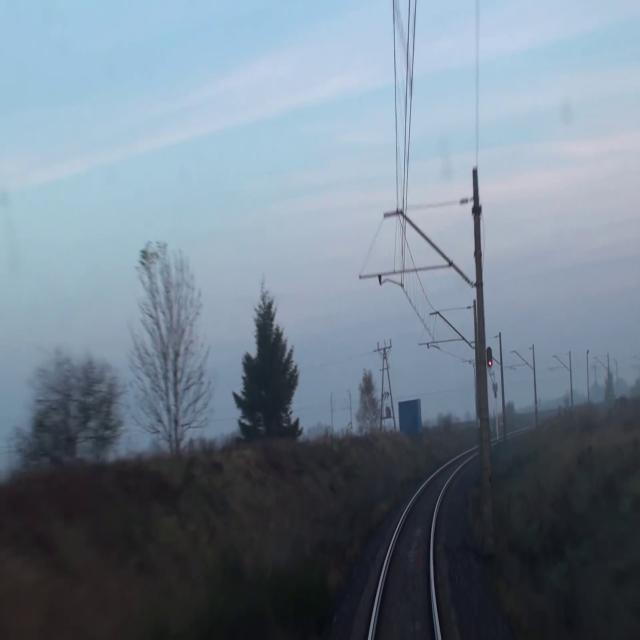rail-track: (372, 463, 456, 639)
